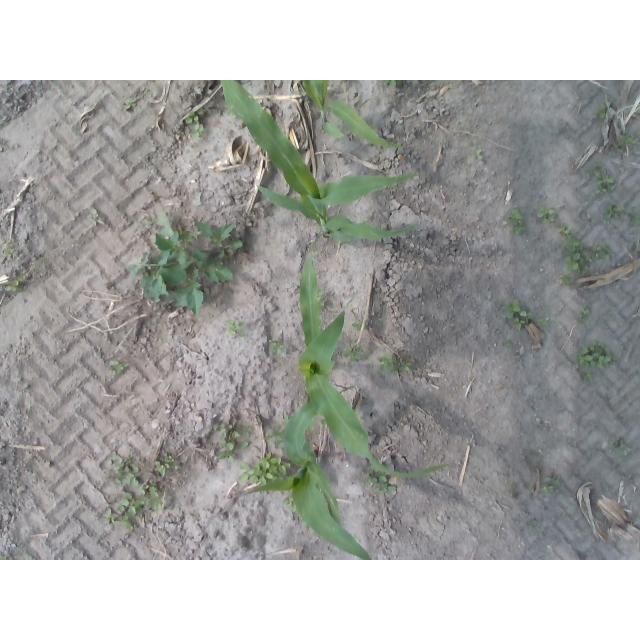Maize: (299, 255, 450, 477), (221, 81, 420, 244), (245, 401, 372, 560), (300, 80, 398, 150)
Weeds: (128, 210, 245, 314), (557, 223, 612, 274), (104, 490, 145, 530), (218, 424, 250, 462), (108, 455, 142, 489), (580, 342, 614, 367), (235, 463, 263, 486), (263, 452, 285, 480), (507, 300, 529, 326), (594, 166, 615, 193), (505, 207, 524, 236), (369, 476, 397, 495), (379, 354, 410, 371), (145, 484, 163, 509), (185, 113, 204, 135), (607, 203, 629, 221), (106, 359, 127, 377), (228, 319, 245, 340), (616, 134, 636, 151), (270, 338, 286, 355), (345, 344, 361, 360), (155, 460, 170, 476), (90, 209, 104, 226), (540, 208, 557, 222), (618, 438, 631, 456), (5, 279, 20, 294), (593, 103, 607, 119), (546, 477, 560, 492), (580, 305, 592, 322), (126, 100, 138, 113), (385, 81, 404, 88), (473, 150, 484, 162), (536, 318, 551, 326), (560, 274, 572, 284), (581, 371, 592, 381), (5, 248, 16, 256), (352, 322, 362, 330), (502, 341, 512, 347), (167, 456, 174, 463), (175, 465, 181, 469)
